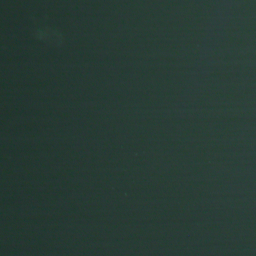con: (25, 12, 72, 55)
